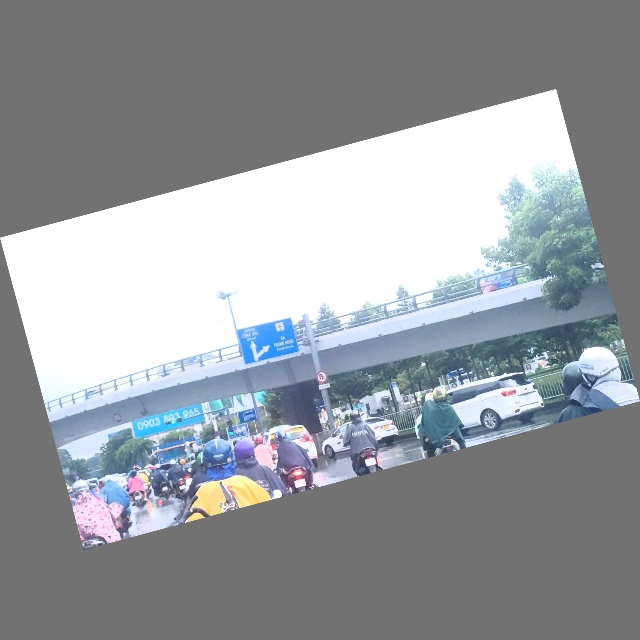P.124b1: (315, 370, 329, 386)
